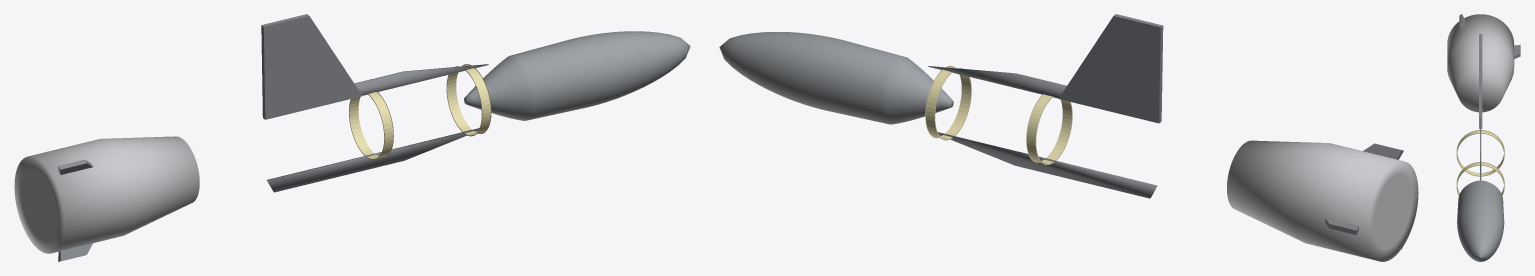
Rendered from US_LAM_Tomahawk_LOD0.fbx.
The picture shows the model from 3 angles, left to right: view 1: azimuth 30°, elevation 25°; view 2: azimuth 150°, elevation 25°; view 3: azimuth 270°, elevation 25°; orthographic projection. The views are drawn at different scales.
Parts seen in each view (by area): view 1: WPN_US_LAM_Tomahawk_LOD0_Tail, WPN_US_LAM_Tomahawk_LOD0_Body, WPN_US_LAM_Tomahawk_LOD0_Wings, WPN_US_LAM_Tomahawk_LOD0_Detail, WPN_US_LAM_Tomahawk_LOD0_Marking, WPN_US_LAM_Tomahawk_LOD0_Fins; view 2: WPN_US_LAM_Tomahawk_LOD0_Tail, WPN_US_LAM_Tomahawk_LOD0_Body, WPN_US_LAM_Tomahawk_LOD0_Wings, WPN_US_LAM_Tomahawk_LOD0_Detail, WPN_US_LAM_Tomahawk_LOD0_Marking, WPN_US_LAM_Tomahawk_LOD0_Fins; view 3: WPN_US_LAM_Tomahawk_LOD0_Tail, WPN_US_LAM_Tomahawk_LOD0_Body, WPN_US_LAM_Tomahawk_LOD0_Marking, WPN_US_LAM_Tomahawk_LOD0_Wings, WPN_US_LAM_Tomahawk_LOD0_Fins, WPN_US_LAM_Tomahawk_LOD0_Detail.
Part boxes in pixels (x1,y1,x2,y2): WPN_US_LAM_Tomahawk_LOD0_Tail: [14, 136, 199, 253]; WPN_US_LAM_Tomahawk_LOD0_Body: [464, 31, 690, 120]; WPN_US_LAM_Tomahawk_LOD0_Wings: [261, 14, 362, 119]; WPN_US_LAM_Tomahawk_LOD0_Detail: [267, 64, 488, 192]; WPN_US_LAM_Tomahawk_LOD0_Marking: [349, 64, 491, 160]; WPN_US_LAM_Tomahawk_LOD0_Fins: [58, 159, 92, 261]; WPN_US_LAM_Tomahawk_LOD0_Tail: [1227, 140, 1418, 261]; WPN_US_LAM_Tomahawk_LOD0_Body: [719, 32, 953, 124]; WPN_US_LAM_Tomahawk_LOD0_Wings: [1058, 14, 1163, 123]; WPN_US_LAM_Tomahawk_LOD0_Detail: [928, 66, 1157, 198]; WPN_US_LAM_Tomahawk_LOD0_Marking: [925, 66, 1072, 164]; WPN_US_LAM_Tomahawk_LOD0_Fins: [1325, 143, 1403, 249]; WPN_US_LAM_Tomahawk_LOD0_Tail: [1447, 14, 1514, 112]; WPN_US_LAM_Tomahawk_LOD0_Body: [1457, 180, 1504, 261]; WPN_US_LAM_Tomahawk_LOD0_Marking: [1456, 130, 1504, 195]; WPN_US_LAM_Tomahawk_LOD0_Wings: [1479, 34, 1482, 128]; WPN_US_LAM_Tomahawk_LOD0_Fins: [1459, 14, 1520, 58]; WPN_US_LAM_Tomahawk_LOD0_Detail: [1480, 118, 1481, 180].
Size of the model in its own units: 5.56 by 0.8112 by 1.41.
